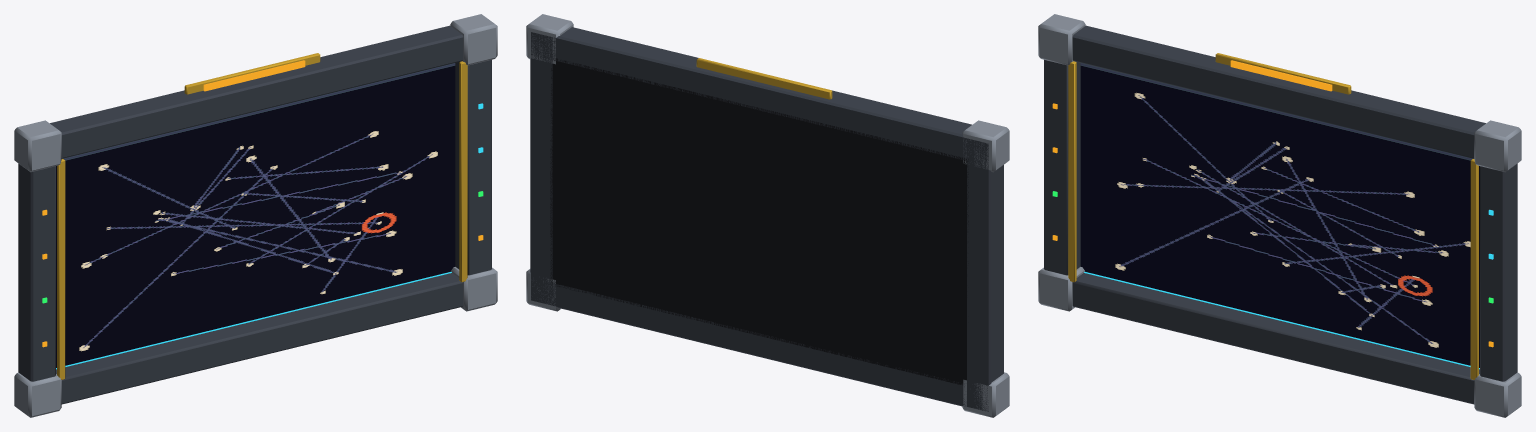
Rendered from display_main_viewscreen.glb.
3 renders of one model, left to right at view 1: azimuth 30°, elevation 25°; view 2: azimuth 150°, elevation 25°; view 3: azimuth 330°, elevation 25°, orthographic.
Parts seen in each view (by area): view 1: display_main_viewscreen; view 2: display_main_viewscreen; view 3: display_main_viewscreen.
Boxes of the visible parts, x1,y1,x2,y2 form: display_main_viewscreen: (14, 14, 497, 417); display_main_viewscreen: (526, 14, 1009, 417); display_main_viewscreen: (1038, 14, 1521, 417).
Bounding box in the file's own units: 5.6 × 3.24 × 0.34.
9 materials, 1 textured.
